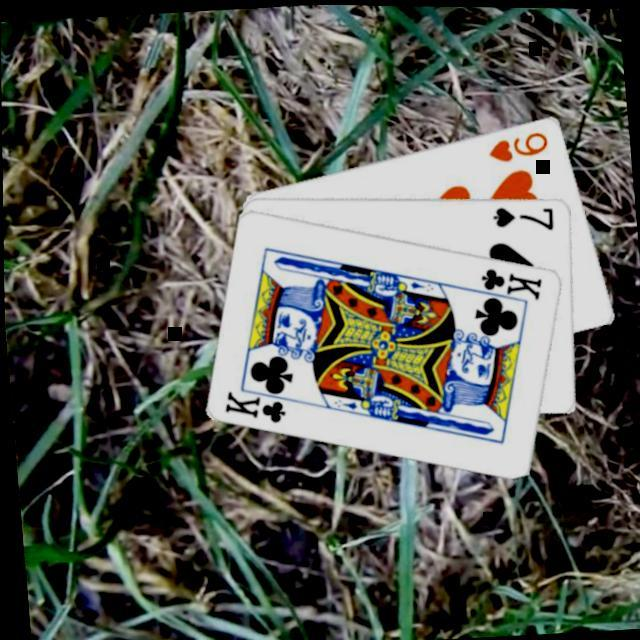7S: (490, 199, 559, 236)
9H: (485, 126, 554, 167)
KC: (468, 260, 548, 310), (221, 380, 301, 430)
